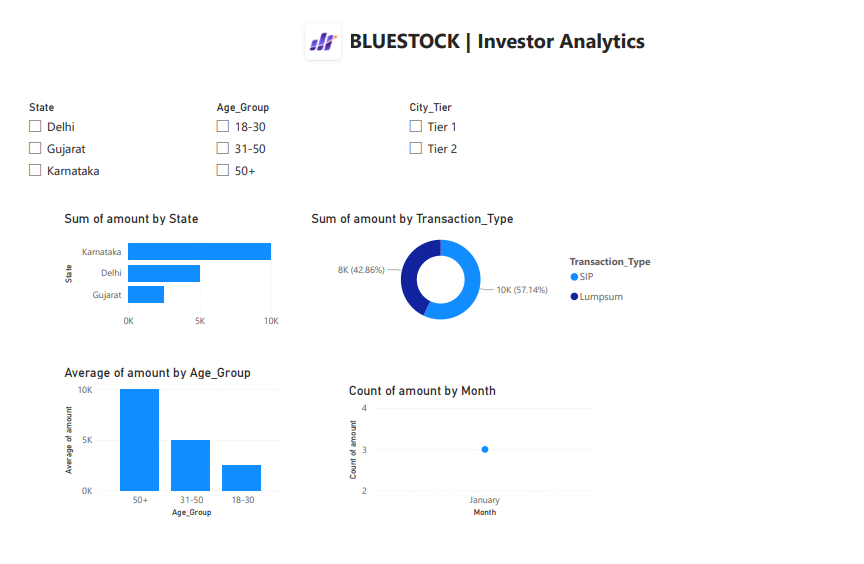

The page's visual inventory and layout, read from the dashboard file:
{"tool":"powerbi","page":{"name":"Investor Analytics","canvas":[1280,720],"ordinal":2},"visuals":[{"type":"slicer","fields":{"Values":["08_investor_transactions_clean.State"]},"box":[18.3,113.3,160,133.3],"z":0},{"type":"slicer","fields":{"Values":["08_investor_transactions_clean.Age_Group"]},"box":[268.3,113.3,160,150],"z":1000},{"type":"slicer","fields":{"Values":["08_investor_transactions_clean.City_Tier"]},"box":[525,113.3,141.7,150],"z":2000},{"type":"clusteredBarChart","fields":{"Category":["08_investor_transactions_clean.State"],"Y":["Sum(08_investor_transactions_clean.amount)"]},"box":[73.3,263.3,295,165],"z":3000},{"type":"donutChart","fields":{"Category":["08_investor_transactions_clean.Transaction_Type"],"Y":["Sum(08_investor_transactions_clean.amount)"]},"box":[401.7,263.3,476.7,165],"z":4000},{"type":"clusteredColumnChart","fields":{"Category":["08_investor_transactions_clean.Age_Group"],"Y":["Avg(08_investor_transactions_clean.amount)"]},"box":[73.3,468.3,301.7,206.7],"z":5000},{"type":"lineChart","fields":{"Category":["08_investor_transactions_clean.Transaction_Date.Variation.Date Hierarchy.Month"],"Y":["CountNonNull(08_investor_transactions_clean.amount)"]},"box":[451.7,493.3,338.3,181.7],"z":6000},{"type":"textbox","box":[451.7,11.7,420,48.3],"z":7000},{"type":"image","box":[348.3,1.7,150,71.7],"z":8000}]}

Visuals, with their boxes on the page's 1280x720 design canvas (x1, y1, x2, y2). These are canvas units, not pixel positions in the 864x564 screenshot, which may show the page scaled, cropped or inside an application window:
slicer - 08_investor_transactions_clean.State: region(18, 113, 178, 247)
slicer - 08_investor_transactions_clean.Age_Group: region(268, 113, 428, 263)
slicer - 08_investor_transactions_clean.City_Tier: region(525, 113, 667, 263)
clusteredBarChart - 08_investor_transactions_clean.State x Sum(08_investor_transactions_clean.amount): region(73, 263, 368, 428)
donutChart - 08_investor_transactions_clean.Transaction_Type x Sum(08_investor_transactions_clean.amount): region(402, 263, 878, 428)
clusteredColumnChart - 08_investor_transactions_clean.Age_Group x Avg(08_investor_transactions_clean.amount): region(73, 468, 375, 675)
lineChart - 08_investor_transactions_clean.Transaction_Date.Variation.Date Hierarchy.Month x CountNonNull(08_investor_transactions_clean.amount): region(452, 493, 790, 675)
textbox: region(452, 12, 872, 60)
image: region(348, 2, 498, 73)
